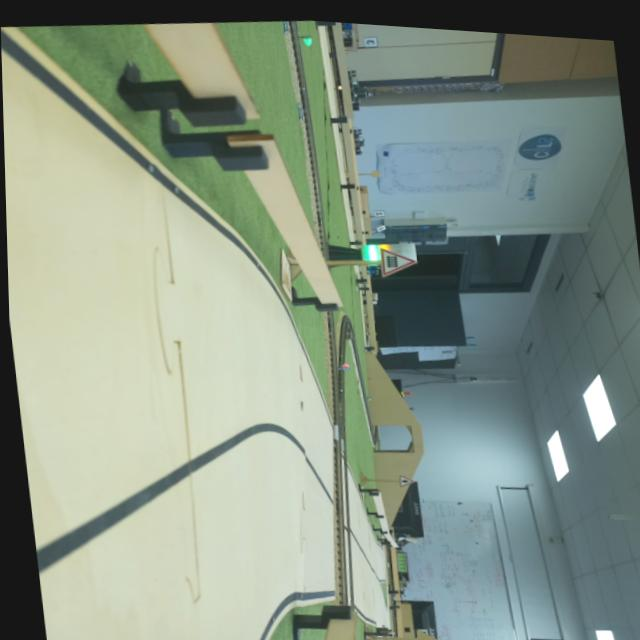panneau_barriere: (377, 245, 418, 284)
